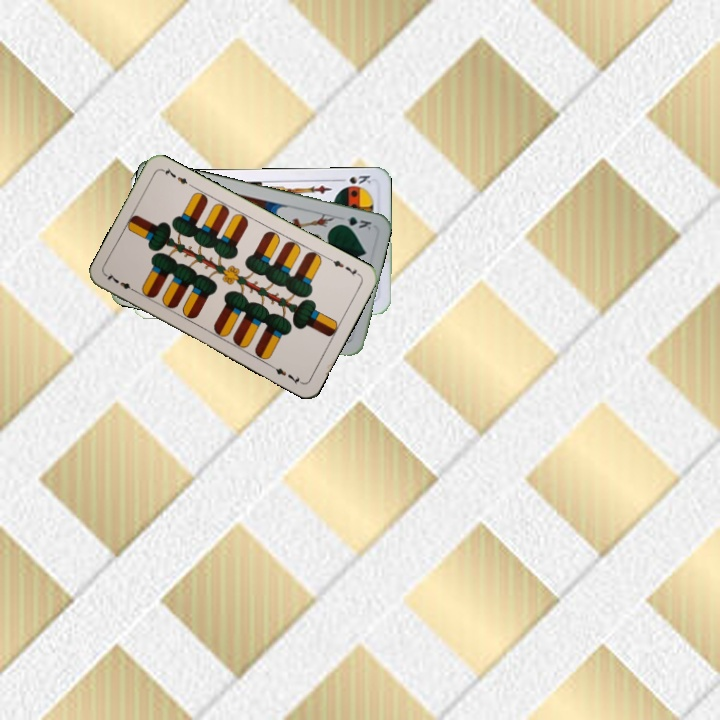E7: (102, 269, 140, 295), (325, 254, 363, 278)
GK: (334, 212, 374, 232)
SK: (334, 171, 373, 187)
